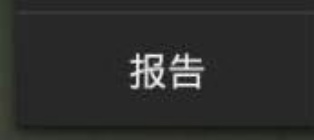Button: (1, 1, 313, 139)
